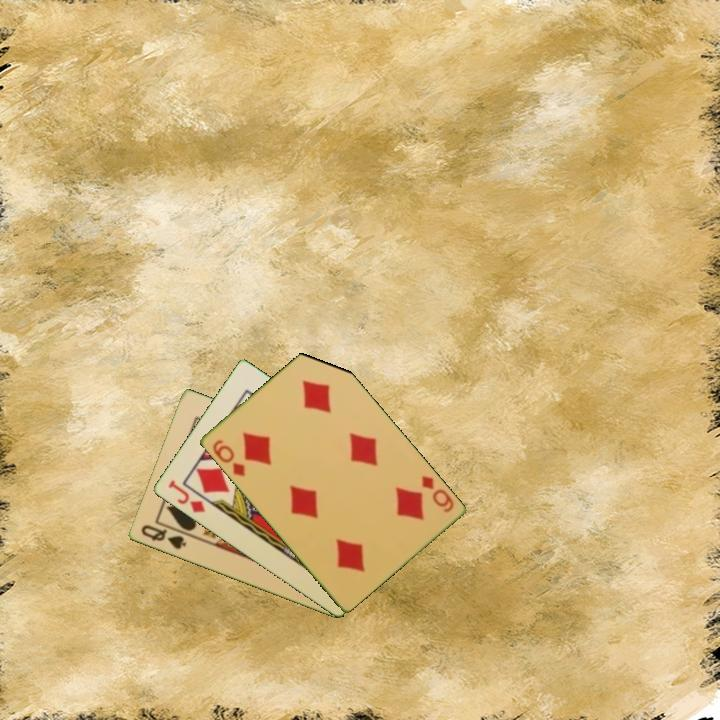6d: (208, 436, 248, 480), (417, 471, 456, 515)
Jd: (164, 477, 208, 516)
Qs: (137, 521, 189, 552)
